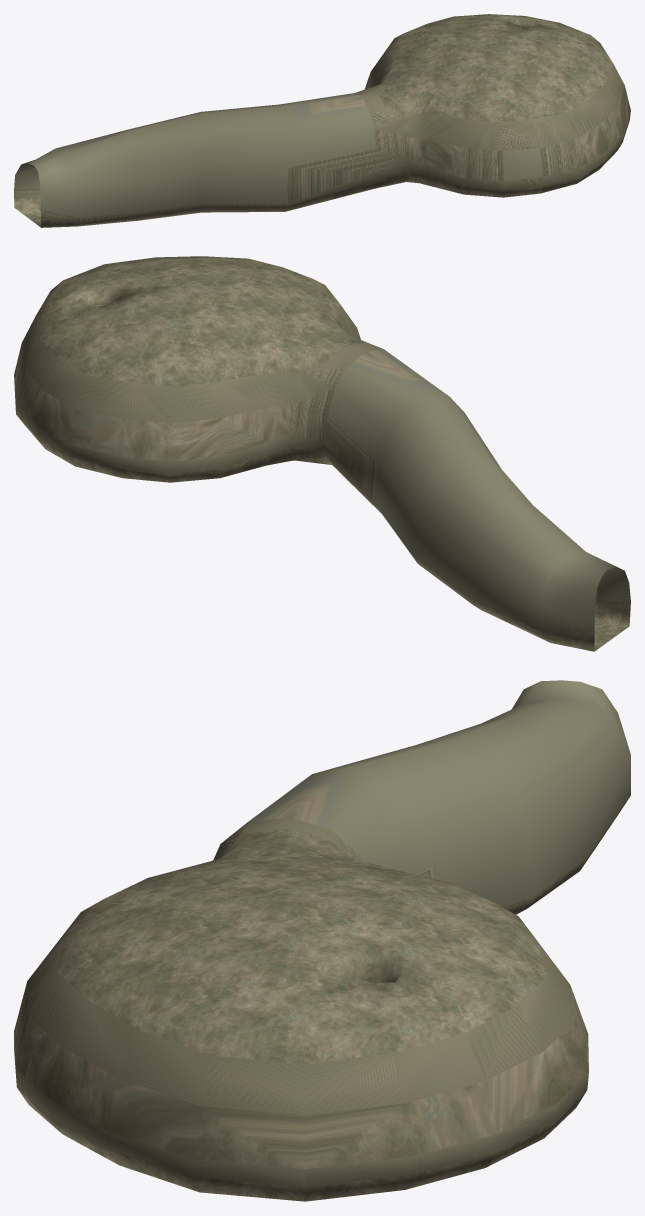
Rendered from OVERHILL_A_01_OBJECT65.fbx.
3 renders of one model, top to bottom at view 1: azimuth 30°, elevation 25°; view 2: azimuth 150°, elevation 25°; view 3: azimuth 270°, elevation 25°, orthographic. The views are drawn at different scales.
Parts seen in each view (by area): view 1: OVERHILL_A_01_OBJECT65; view 2: OVERHILL_A_01_OBJECT65; view 3: OVERHILL_A_01_OBJECT65.
Part boxes in pixels (box(x1,y1,x2,y2)): OVERHILL_A_01_OBJECT65: box(14, 14, 630, 227); OVERHILL_A_01_OBJECT65: box(14, 256, 630, 651); OVERHILL_A_01_OBJECT65: box(14, 680, 630, 1201).
Bounding box in the file's own units: 204801 × 51358 × 107159.
Materials: 1 (1 with a texture image).
